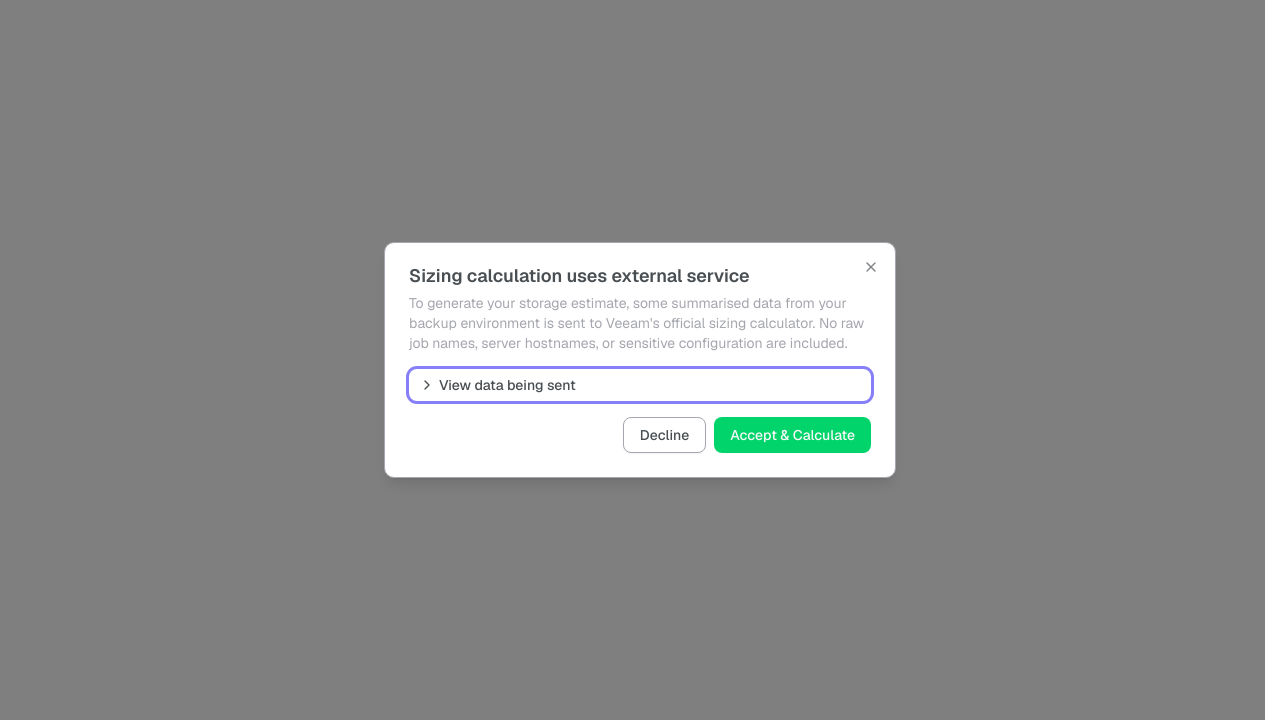
Scenario: CalculatorConsentDialog › clicking 'View data being sent' toggle opens the expandable
This screenshot has width=1280, height=720.
Click the button "View data being sent" at (507, 385), box [409,369,871,401]
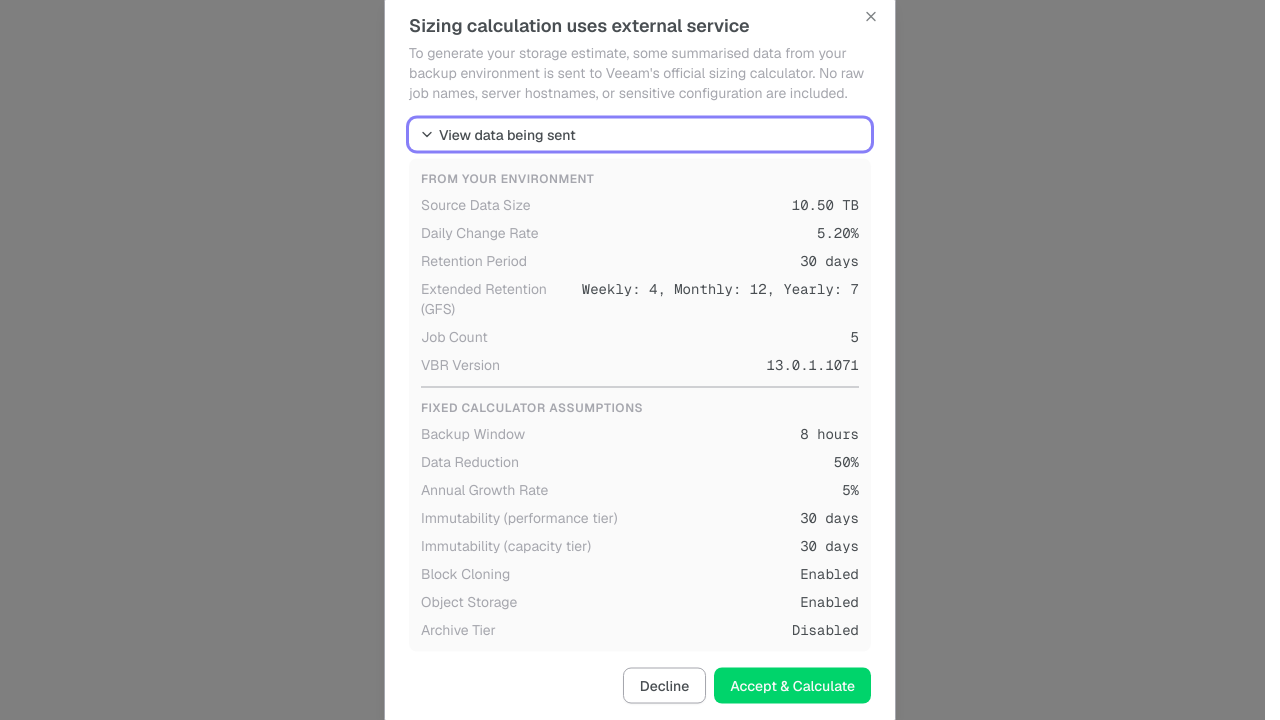
Expected: the button "View data being sent" is expanded, [409,118,871,150]
